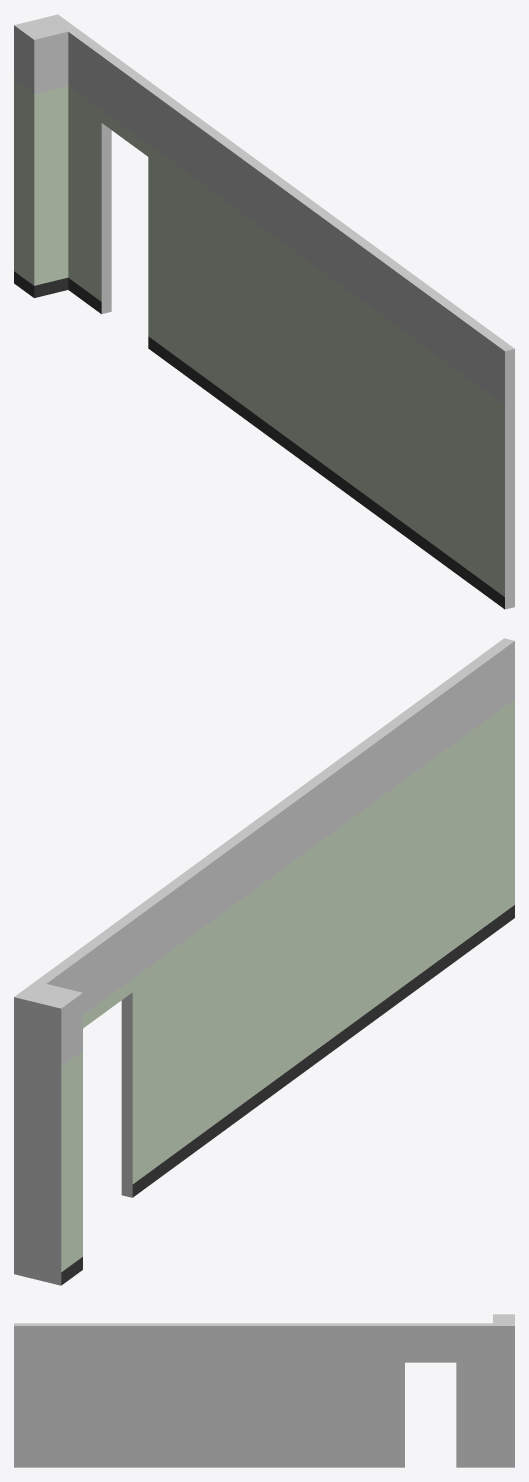
The model's file is Wall 2.FBX.
3 renders of one model, top to bottom at view 1: azimuth 30°, elevation 25°; view 2: azimuth 150°, elevation 25°; view 3: azimuth 270°, elevation 25°, orthographic. The views are drawn at different scales.
Parts seen in each view (by area): view 1: Wall 2; view 2: Wall 2; view 3: Wall 2.
Boxes of the visible parts, x1,y1,x2,y2 form: Wall 2: (14,14,514,609); Wall 2: (14,638,514,1285); Wall 2: (14,1314,514,1467).
Size of the model in its own units: 659 by 3695 by 11849.
